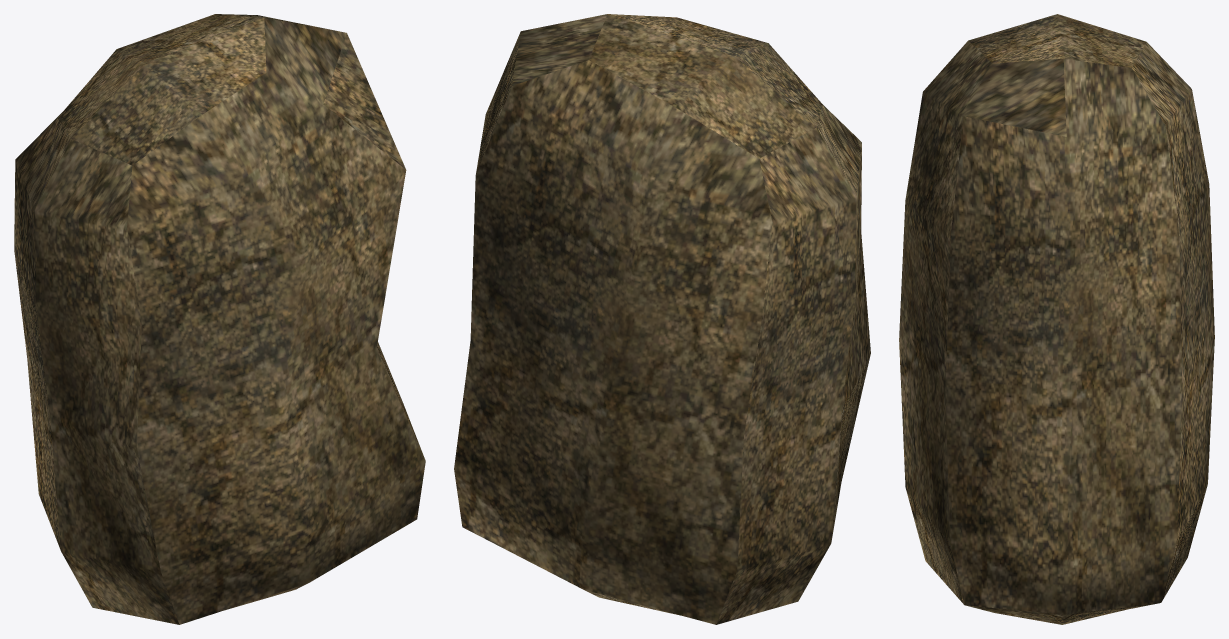
File: CH09_SMAUG_PLAYSURFACE_LONELYMOUNTAIN_LM_PLAYSURFACE02.fbx
The picture shows the model from 3 angles, left to right: view 1: azimuth 30°, elevation 25°; view 2: azimuth 150°, elevation 25°; view 3: azimuth 270°, elevation 25°; orthographic projection.
Visible parts, largest first — view 1: CH09_SMAUG_PLAYSURFACE_LONELYMOUNTAIN_LM_PLAYSURFACE02; view 2: CH09_SMAUG_PLAYSURFACE_LONELYMOUNTAIN_LM_PLAYSURFACE02; view 3: CH09_SMAUG_PLAYSURFACE_LONELYMOUNTAIN_LM_PLAYSURFACE02.
Part boxes in pixels (x1,y1,x2,y2): CH09_SMAUG_PLAYSURFACE_LONELYMOUNTAIN_LM_PLAYSURFACE02: (14,14,425,624); CH09_SMAUG_PLAYSURFACE_LONELYMOUNTAIN_LM_PLAYSURFACE02: (454,14,870,624); CH09_SMAUG_PLAYSURFACE_LONELYMOUNTAIN_LM_PLAYSURFACE02: (899,14,1214,624).
Bounding box in the file's own units: 9657 × 13635 × 6932.
Materials: 1 (1 with a texture image).
